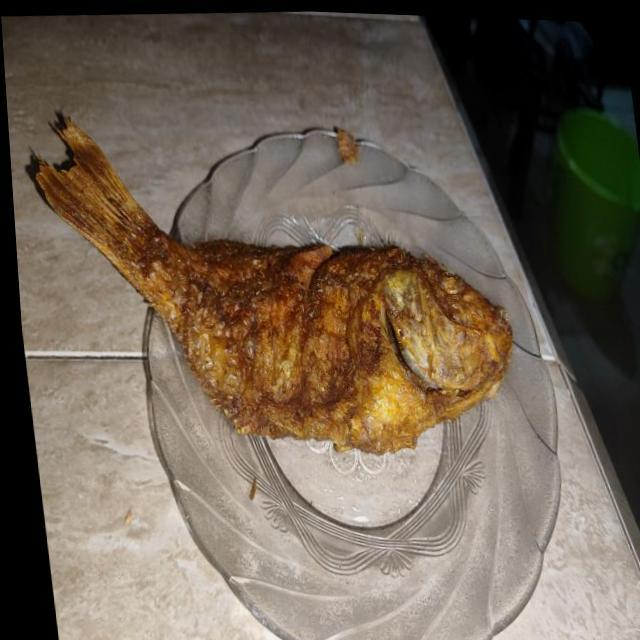ikan_mujair: (36, 120, 512, 454)
